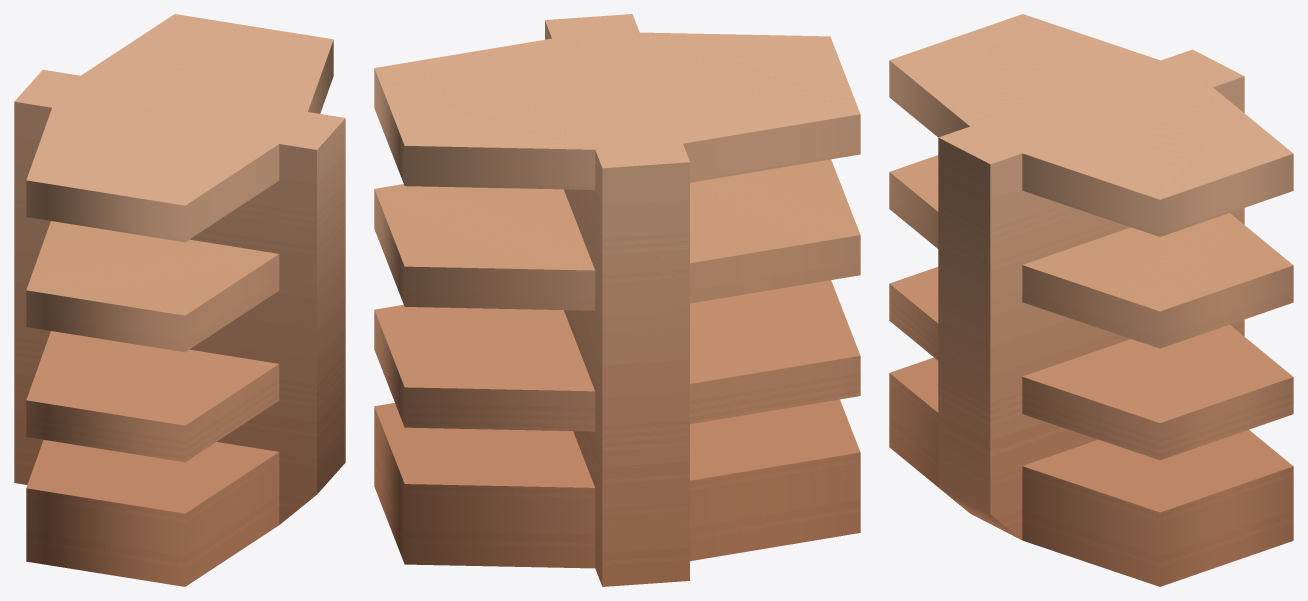
File: torso.001_lev2.glb
3 renders of one model, left to right at view 1: azimuth 30°, elevation 25°; view 2: azimuth 150°, elevation 25°; view 3: azimuth 270°, elevation 25°, orthographic. The views are drawn at different scales.
Visible parts, largest first — view 1: torso.001_lev2; view 2: torso.001_lev2; view 3: torso.001_lev2.
Boxes of the visible parts, bbox=[...] form: torso.001_lev2: bbox=[14, 14, 345, 586]; torso.001_lev2: bbox=[374, 14, 860, 586]; torso.001_lev2: bbox=[889, 14, 1293, 586].
Size of the model in its own units: 0.9465 by 0.9194 by 0.8698.
Materials: 1 (1 with a texture image).
